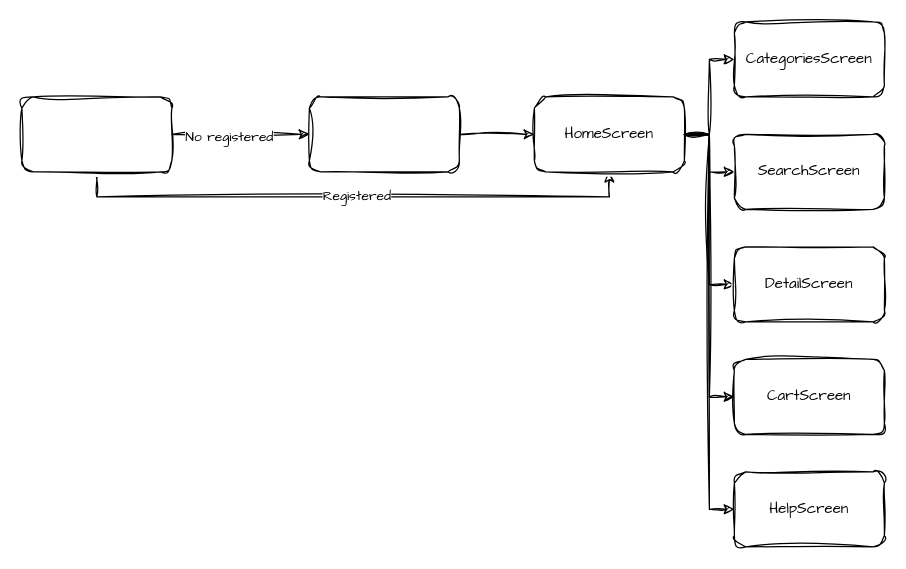
The diagram is 906 pixels wide and 569 high, and some of its shapes have lost their labels. The box of each missing label's shape, as (x1, y1, x2, y2) in pixels:
Register: (308, 96, 459, 172)
Splash: (21, 96, 172, 172)
